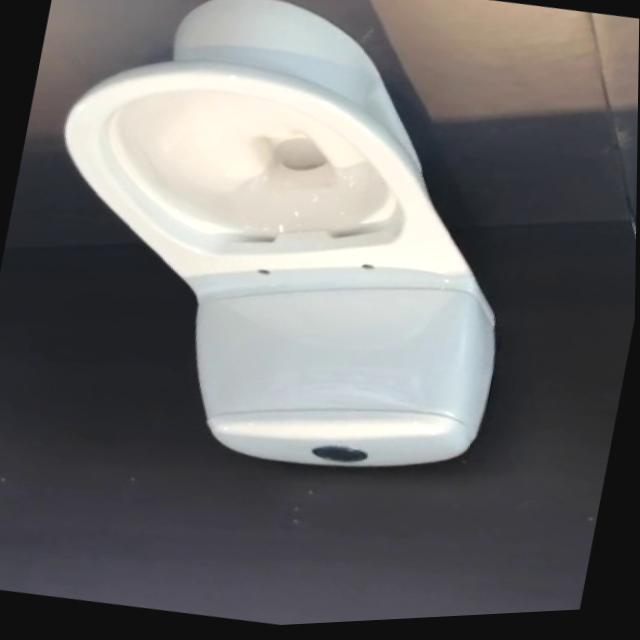toilet: (6, 0, 559, 512)
